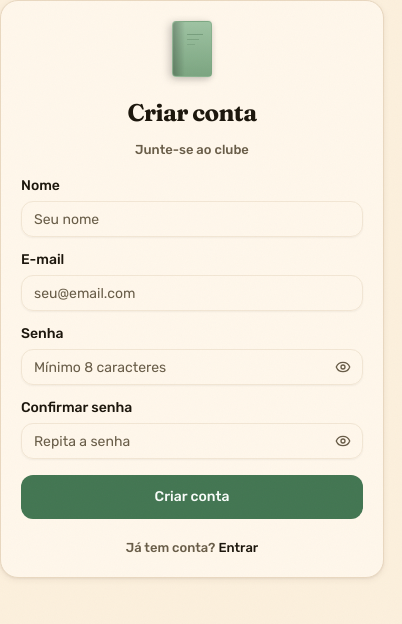
Scenario: RegisterPage › shows error when passwords do not match
Type "Alice" into the field labelled "Nome" at (192,219), box x1=21 y1=201 x2=363 y2=237
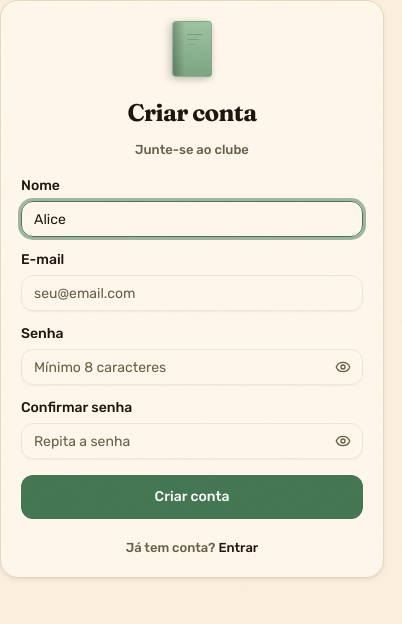
Type "alice@example.com" into the field labelled "E-mail" at (192,293), box x1=21 y1=275 x2=363 y2=311
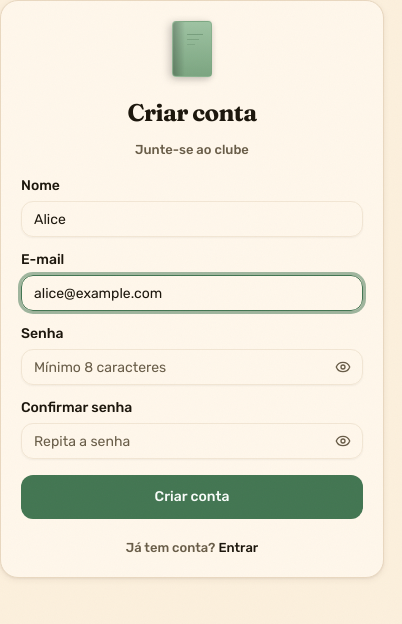
Type "password123" into the password field labelled "Senha" at (192,367), box x1=21 y1=349 x2=363 y2=385
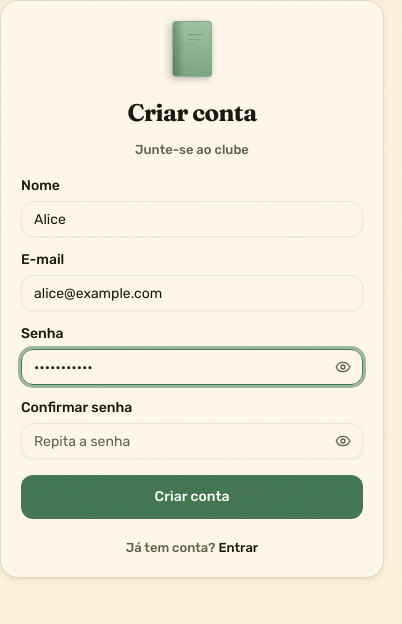
Type "different123" into the password field labelled "Confirmar senha" at (192,441), box x1=21 y1=423 x2=363 y2=459
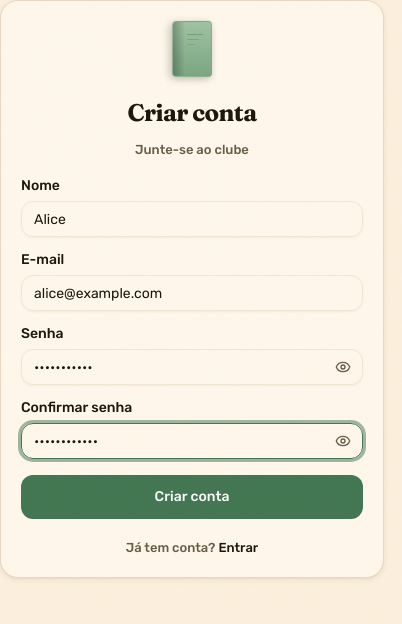
Click the button "Criar conta" at (192,497), box x1=21 y1=475 x2=363 y2=519
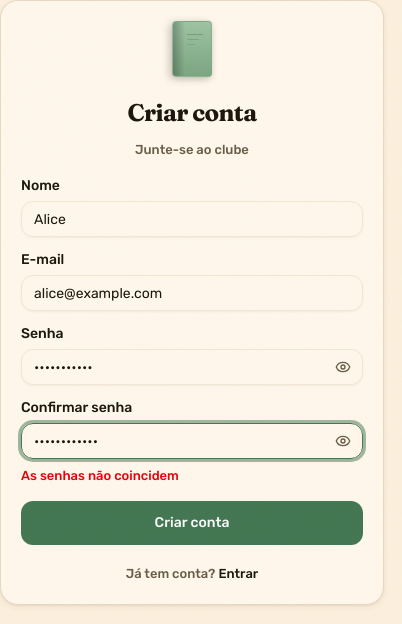
Expected: the text "As senhas não coincidem" is shown, x1=21 y1=468 x2=179 y2=483
